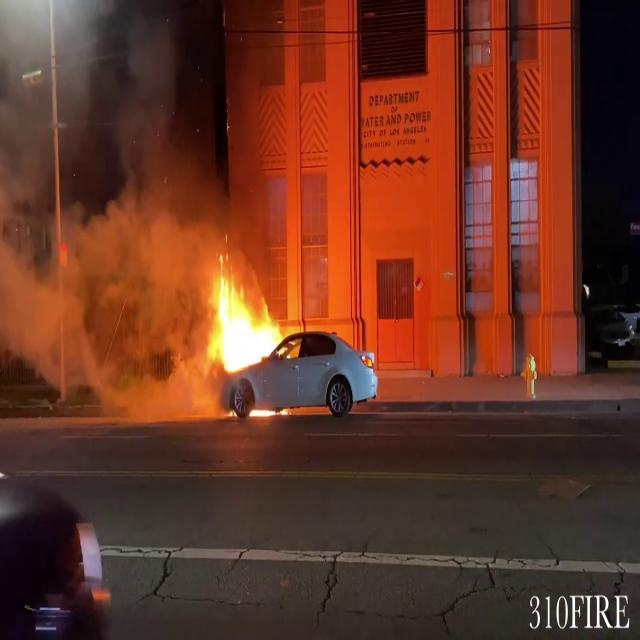Fire: (198, 252, 294, 378), (522, 344, 542, 400)
Smoke: (0, 0, 269, 388)
